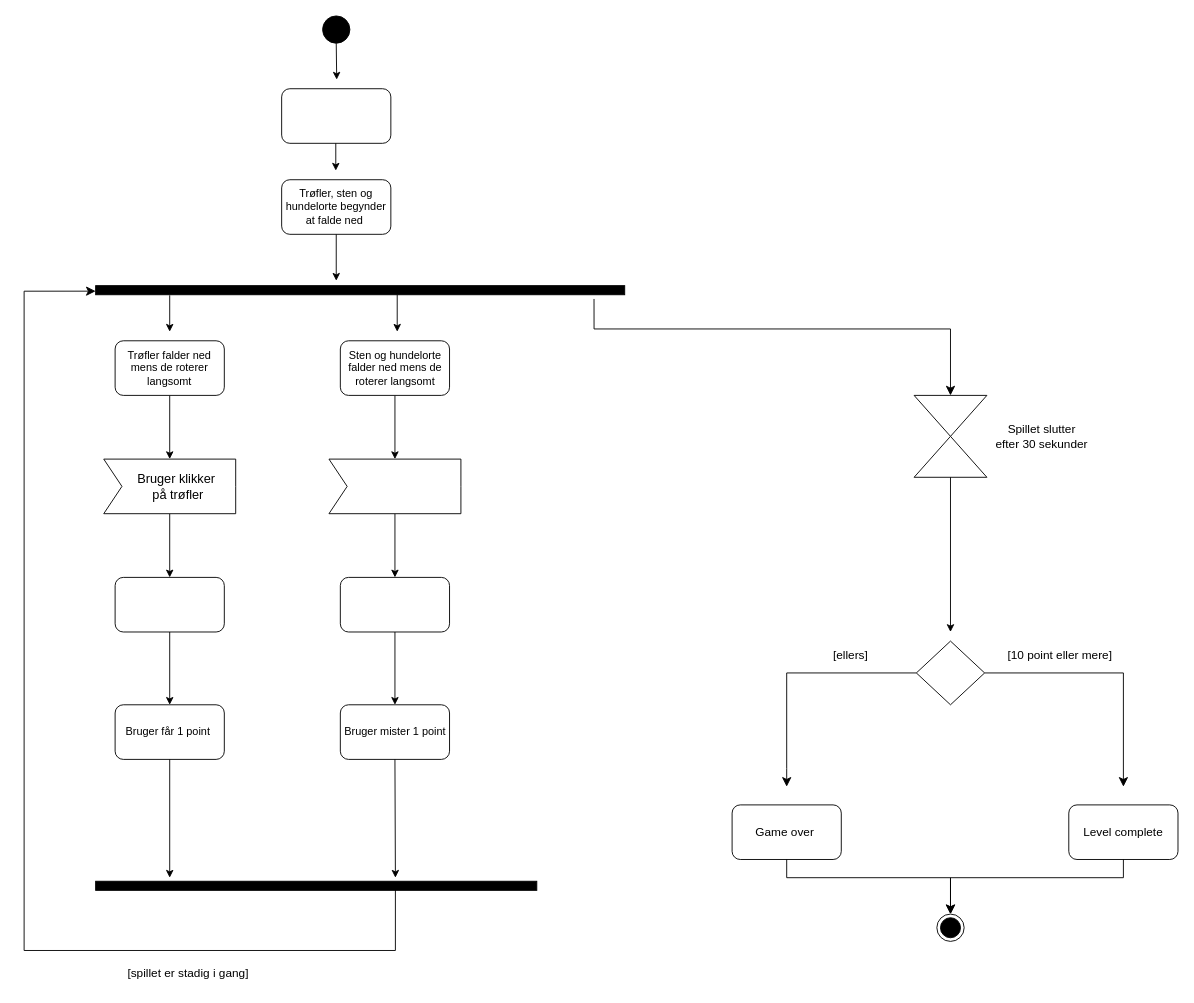
The diagram is 1194 pixels wide and 1003 high, and some of its shapes have lost their labels. Here are the shapes that lost their labels. From the top down, the box of each, then its label:
(281, 88, 391, 143): Baggrundsmusik starter
(328, 458, 461, 514): Bruger klikker på sten eller trøfler
(114, 576, 224, 632): Trøfler forsvinder og kurv fyldes op med 1 trøffel - god lyd
(339, 576, 450, 632): Forsvinder - dårlig lyd
